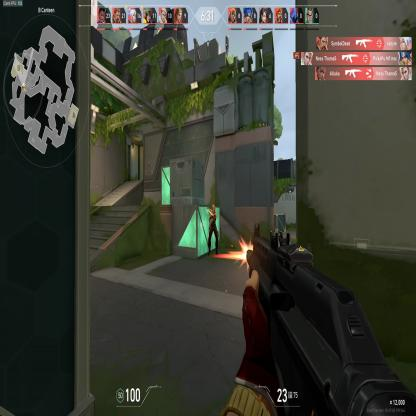enemy: (206, 203, 219, 257)
